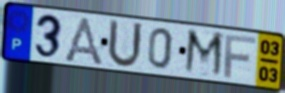0: (147, 26, 175, 72)
3: (33, 12, 69, 61)
A: (61, 15, 106, 68)
F: (223, 33, 258, 80)
M: (182, 27, 226, 80)
U: (106, 17, 145, 71)
